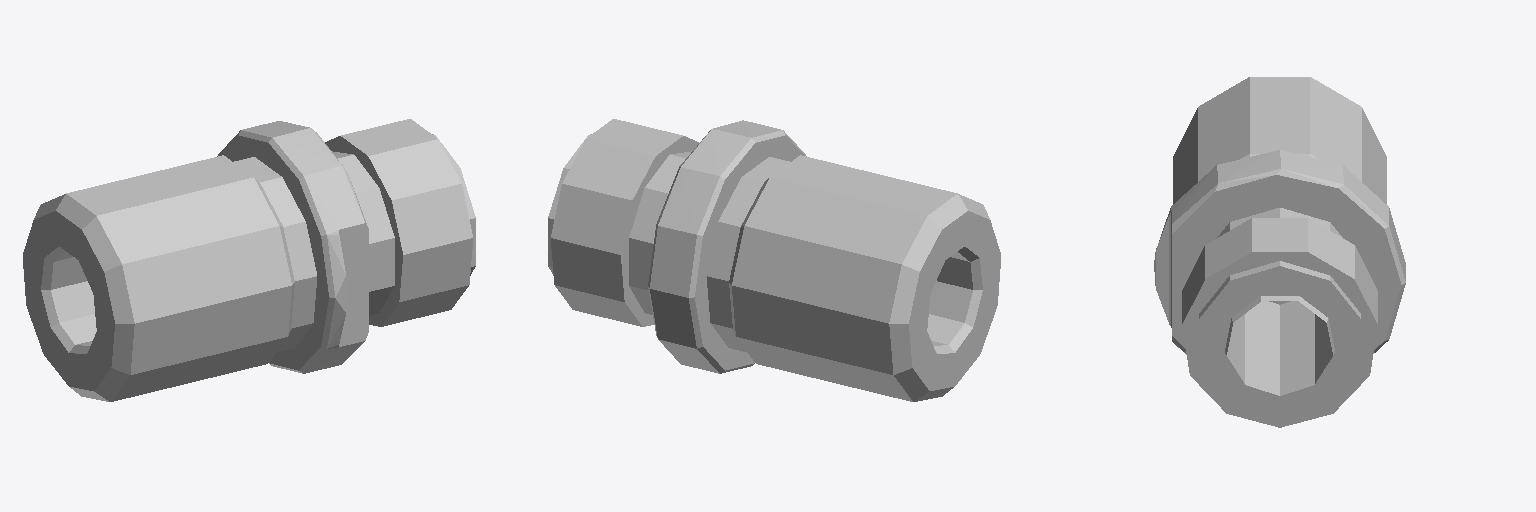
File: 411. Штуцер гибкого вала.obj
3 renders of one model, left to right at view 1: azimuth 30°, elevation 25°; view 2: azimuth 150°, elevation 25°; view 3: azimuth 270°, elevation 25°, orthographic.
Visible parts, largest first — view 1: Твердое тело1; view 2: Твердое тело1; view 3: Твердое тело1.
Boxes of the visible parts, <box> form: Твердое тело1: <box>23,119,475,401</box>; Твердое тело1: <box>548,119,1000,401</box>; Твердое тело1: <box>1154,77,1405,427</box>.
Bounding box in the file's own units: 48 × 28 × 28.